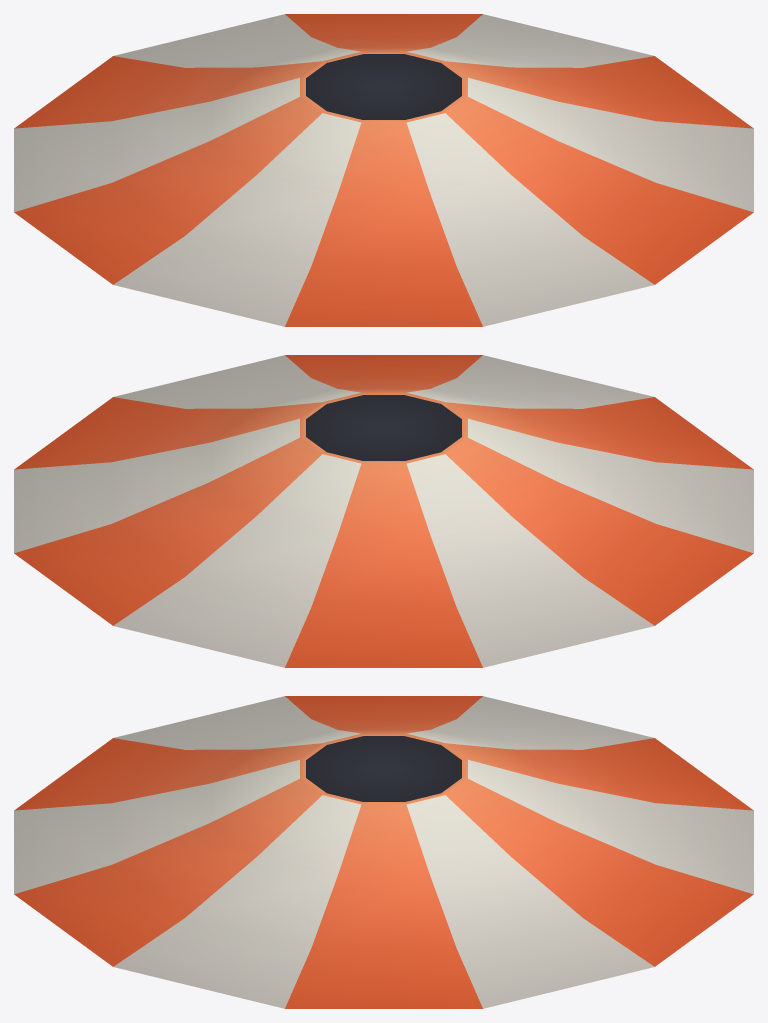
The model's file is squidgame_background_map6_roof.fbx.
The picture shows the model from 3 angles, top to bottom: view 1: azimuth 30°, elevation 25°; view 2: azimuth 150°, elevation 25°; view 3: azimuth 270°, elevation 25°; orthographic projection.
Parts seen in each view (by area): view 1: squidgame_background_map6_roof; view 2: squidgame_background_map6_roof; view 3: squidgame_background_map6_roof.
Boxes of the visible parts, x1,y1,x2,y2 form: squidgame_background_map6_roof: (14,14,753,326); squidgame_background_map6_roof: (14,355,753,667); squidgame_background_map6_roof: (14,696,753,1008).
Bounding box in the file's own units: 30.02 × 3.73 × 30.02.
